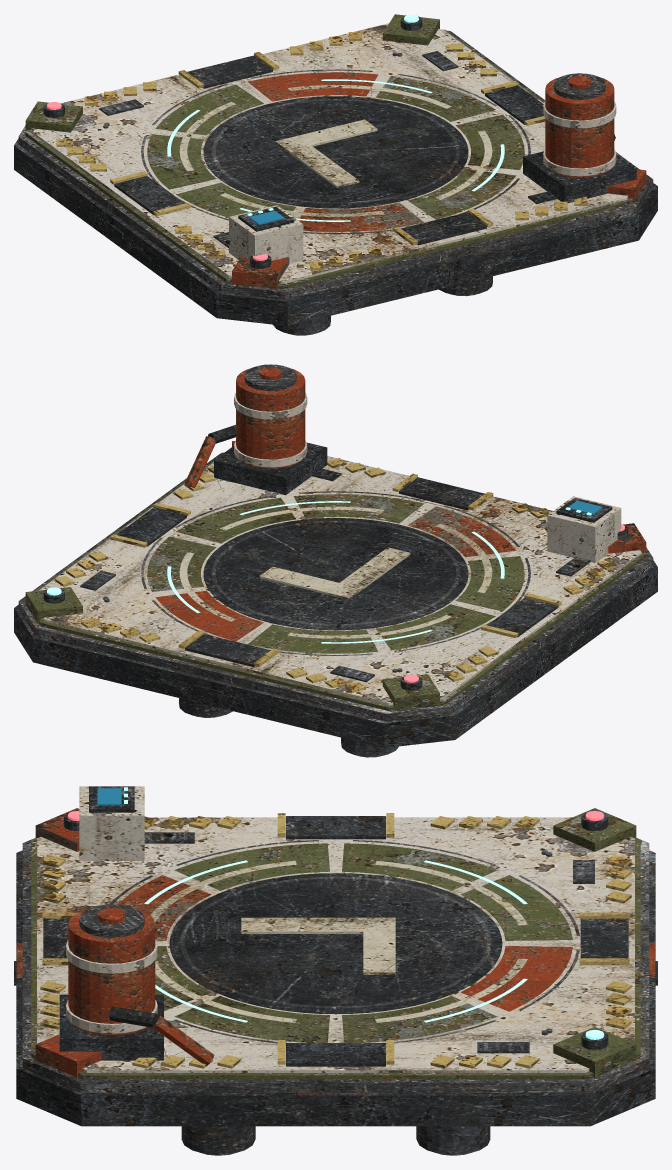
Rendered from StarterPad_Industrial.glb.
3 views of the same model, one above another, from view 1: azimuth 30°, elevation 25°; view 2: azimuth 150°, elevation 25°; view 3: azimuth 270°, elevation 25° (orthographic). The views are drawn at different scales.
Visible parts, largest first — view 1: Deck, Chassis (×2), Touchdown plate (×2), Deck plating (×3), Fuel reservoir (×4), Docking apron (×2), Landing markings, Corner fender (×2), Deck edge, Hazard markings, Service console (×2), Attitude thrusters (+3 smaller); view 2: Deck, Chassis (×2), Touchdown plate (×2), Deck plating (×3), Fuel reservoir (×4), Docking apron (×2), Landing markings, Hazard markings, Deck edge, Service console (×2), Corner fender (×2), Service hatches (+2 smaller); view 3: Deck, Chassis (×2), Touchdown plate (×2), Deck plating (×3), Fuel reservoir (×4), Docking apron (×2), Landing markings, Hazard markings, Corner fender (×2), Deck edge, Service console (×2), Attitude thrusters (+4 smaller).
Part boxes in pixels (<box>): Deck: <box>30,23,628,283</box>; Chassis (×2): <box>14,30,657,326</box>; Touchdown plate (×2): <box>203,96,468,208</box>; Deck plating (×3): <box>141,69,530,234</box>; Fuel reservoir (×4): <box>523,73,636,203</box>; Docking apron (×2): <box>110,52,545,245</box>; Landing markings: <box>179,85,492,216</box>; Corner fender (×2): <box>25,14,646,288</box>; Deck edge: <box>25,29,646,289</box>; Hazard markings: <box>56,32,587,270</box>; Service console (×2): <box>229,205,303,263</box>; Attitude thrusters: <box>273,276,492,334</box>; Deck: <box>39,456,641,705</box>; Chassis (×2): <box>14,452,657,747</box>; Touchdown plate (×2): <box>203,518,468,630</box>; Deck plating (×3): <box>141,491,530,655</box>; Fuel reservoir (×4): <box>184,364,327,495</box>; Docking apron (×2): <box>110,473,561,666</box>; Landing markings: <box>179,506,492,638</box>; Hazard markings: <box>54,458,617,692</box>; Deck edge: <box>25,461,646,710</box>; Service console (×2): <box>547,496,621,562</box>; Corner fender (×2): <box>25,441,646,710</box>; Service hatches: <box>80,468,590,682</box>; Deck: <box>37,817,634,1072</box>; Chassis (×2): <box>16,838,655,1126</box>; Touchdown plate (×2): <box>169,873,502,1014</box>; Deck plating (×3): <box>109,840,579,1043</box>; Fuel reservoir (×4): <box>59,904,214,1065</box>; Docking apron (×2): <box>42,813,629,1066</box>; Landing markings: <box>150,860,527,1022</box>; Hazard markings: <box>40,816,631,1068</box>; Corner fender (×2): <box>35,808,636,1077</box>; Deck edge: <box>31,837,640,1079</box>; Service console (×2): <box>79,786,144,860</box>; Attitude thrusters: <box>181,1126,490,1154</box>.
Size of the model in its own units: 2.96 by 1.4 by 2.96.
Materials: 10 (7 with a texture image).
